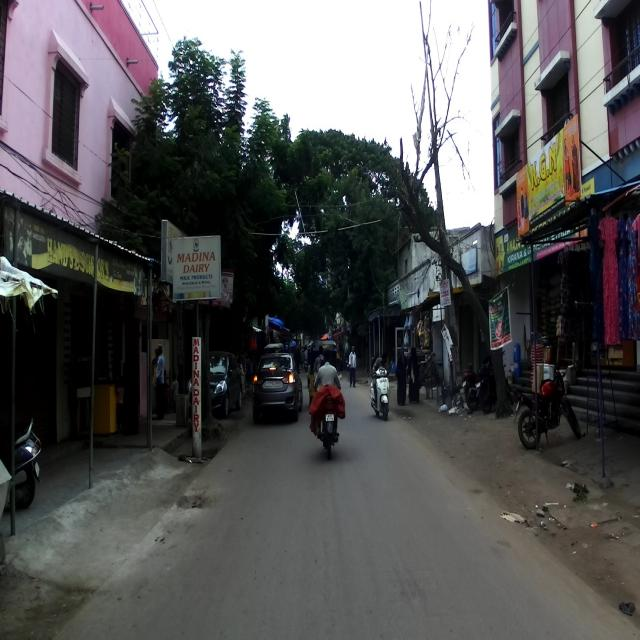Car_Maruti-Suzuki: (250, 344, 305, 430)
motorcycle: (474, 349, 514, 417)
motorcycle_Hero: (314, 371, 342, 460)
motorcycle_HeroHonda: (462, 353, 492, 411)
motorcycle_Honda: (513, 356, 581, 449)
scooter: (0, 412, 42, 511), (369, 365, 392, 419)
